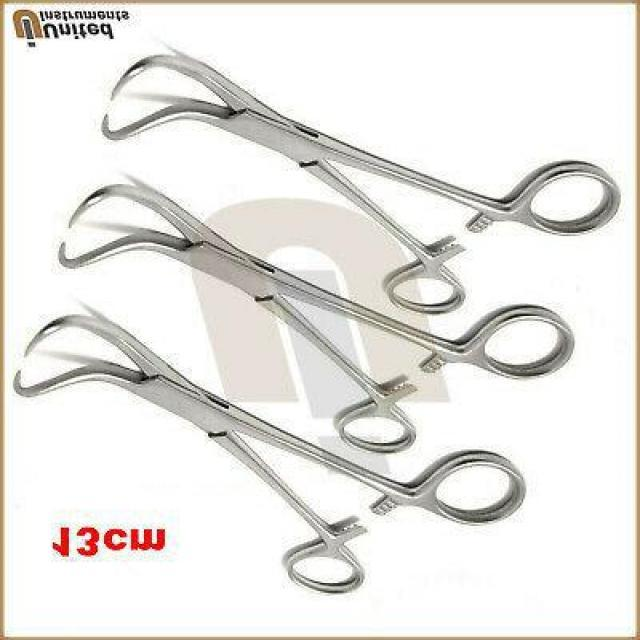Towel_clip: (9, 311, 530, 599), (55, 180, 578, 458), (100, 50, 622, 318)
